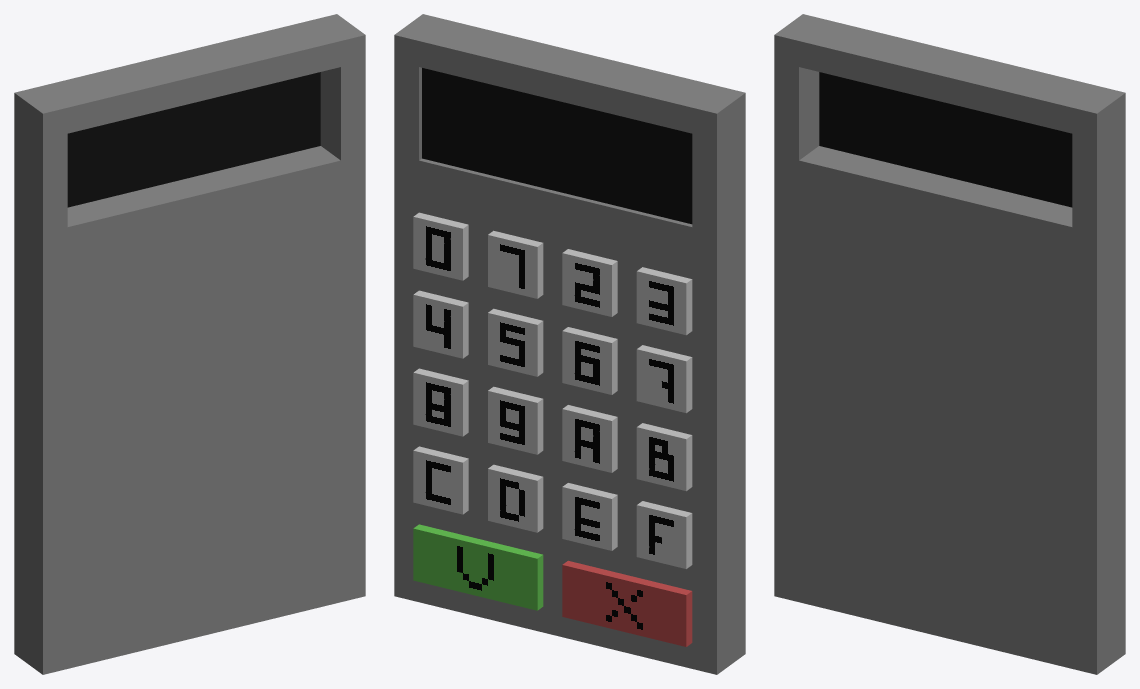
The model's file is keypadhex.fbx.
3 views of the same model, side by side, from view 1: azimuth 30°, elevation 25°; view 2: azimuth 150°, elevation 25°; view 3: azimuth 330°, elevation 25° (orthographic).
Visible parts, largest first — view 1: cube, cube_5, cube_8, cube_7, cube_4, cube_6; view 2: cube, cube_5, cube_8, cube_4, cube_7, cube_2, cube_1, cube_6, cube_12, cube_16, cube_11, cube_20 (+12 smaller); view 3: cube, cube_5, cube_8, cube_7, cube_6, cube_4.
Part boxes in pixels (bbox=[...]): cube: bbox=[14, 180, 365, 674]; cube_5: bbox=[67, 72, 320, 207]; cube_8: bbox=[39, 20, 340, 133]; cube_7: bbox=[67, 146, 340, 252]; cube_4: bbox=[14, 87, 67, 258]; cube_6: bbox=[312, 14, 365, 186]; cube: bbox=[394, 180, 745, 674]; cube_5: bbox=[422, 68, 692, 224]; cube_8: bbox=[419, 20, 720, 133]; cube_4: bbox=[692, 87, 745, 258]; cube_7: bbox=[419, 158, 692, 252]; cube_2: bbox=[562, 560, 692, 646]; cube_1: bbox=[413, 524, 543, 610]; cube_6: bbox=[394, 14, 447, 186]; cube_12: bbox=[636, 345, 692, 413]; cube_16: bbox=[636, 423, 692, 491]; cube_11: bbox=[636, 267, 692, 335]; cube_20: bbox=[636, 501, 692, 568]; cube: bbox=[774, 180, 1125, 674]; cube_5: bbox=[819, 72, 1072, 207]; cube_8: bbox=[799, 20, 1100, 133]; cube_7: bbox=[799, 146, 1072, 252]; cube_6: bbox=[1072, 87, 1125, 258]; cube_4: bbox=[774, 14, 827, 186].
Bounding box in the file's own units: 20.31 × 33.75 × 3.75.
Materials: 20 (20 with a texture image).
